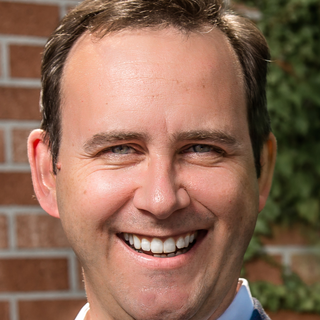eye: (88, 139, 147, 165), (172, 139, 228, 162)
